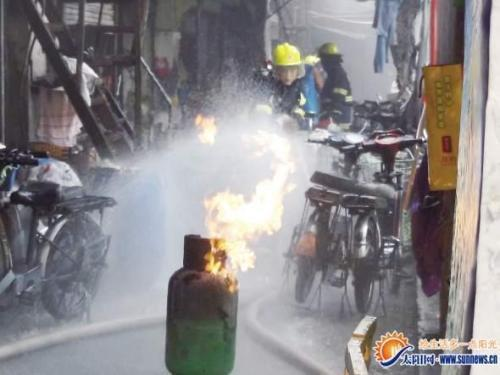fire: (194, 123, 296, 290), (184, 109, 221, 145)
